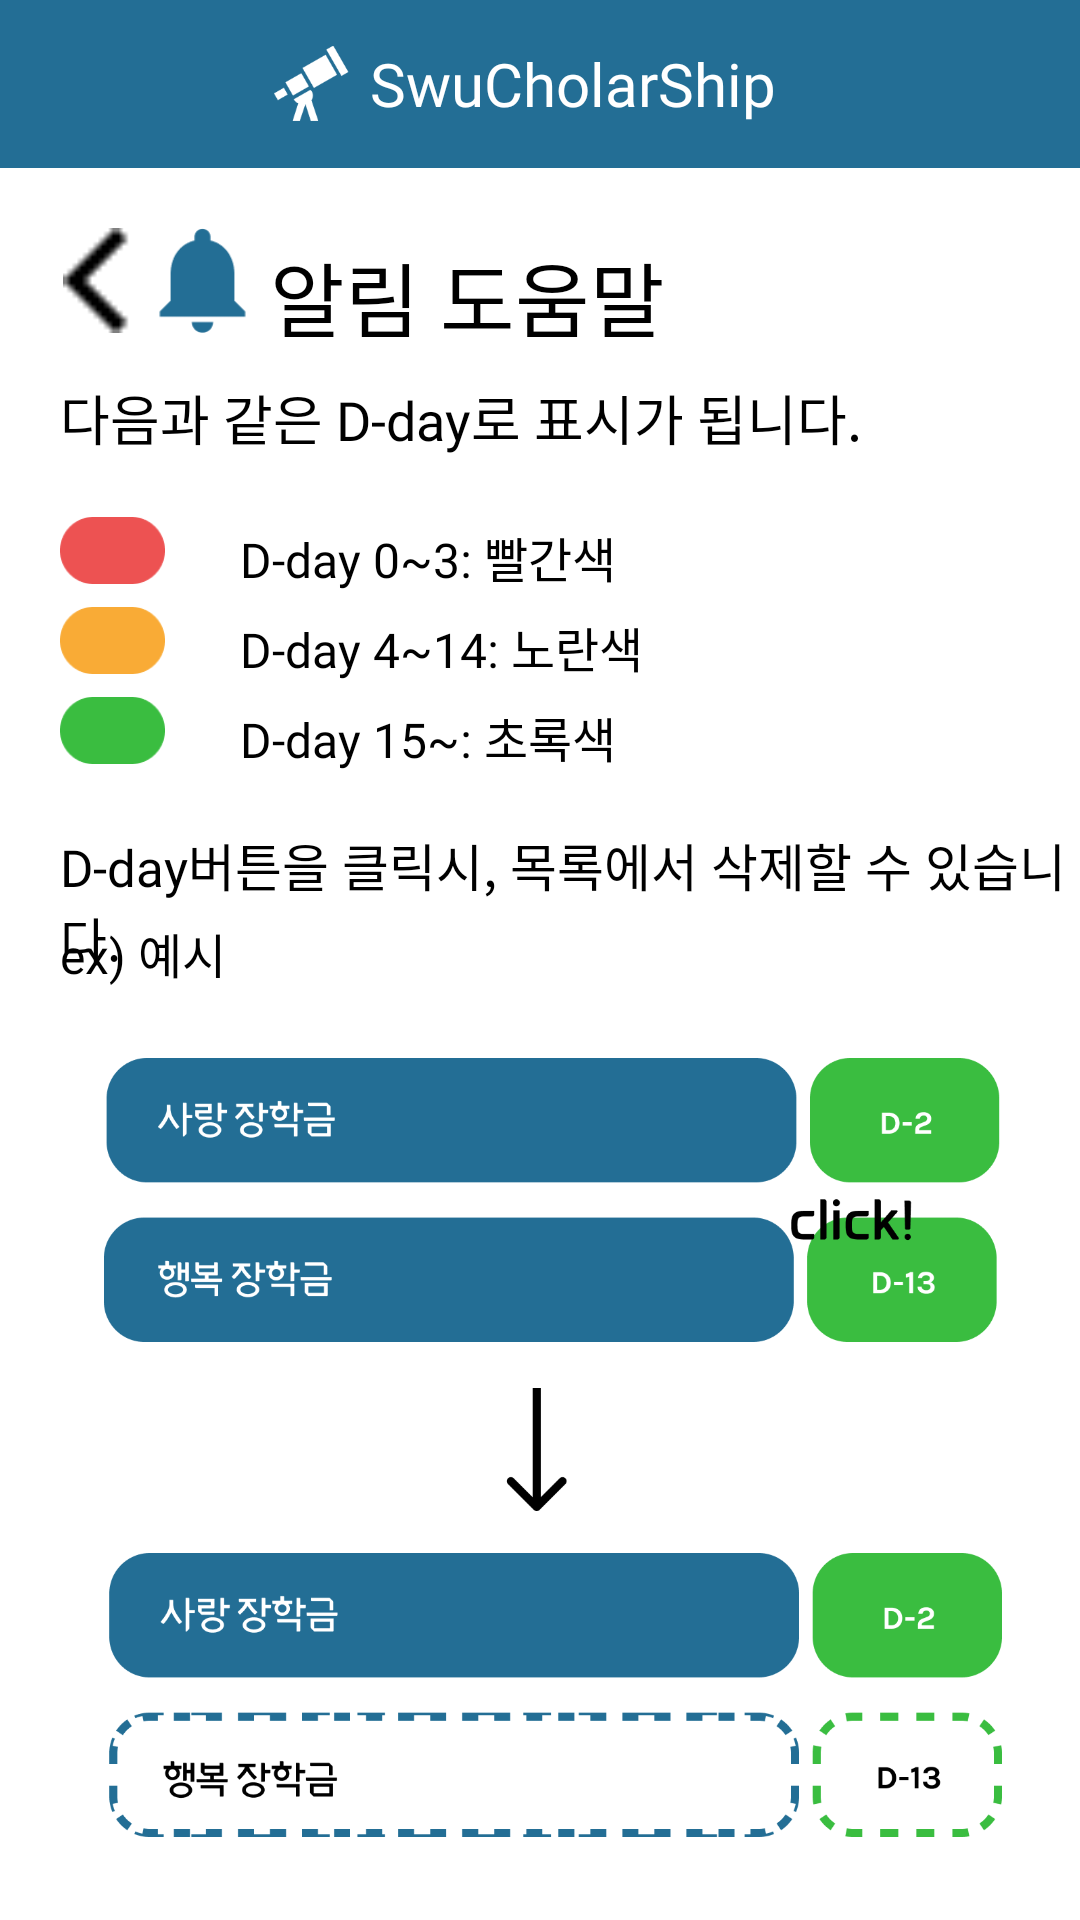

Icons on this 1080*1920 Android screen, each with its box as (x1,y1,x2,y2):
alarm: (159,229,246,333)
back: (63,228,128,333)
